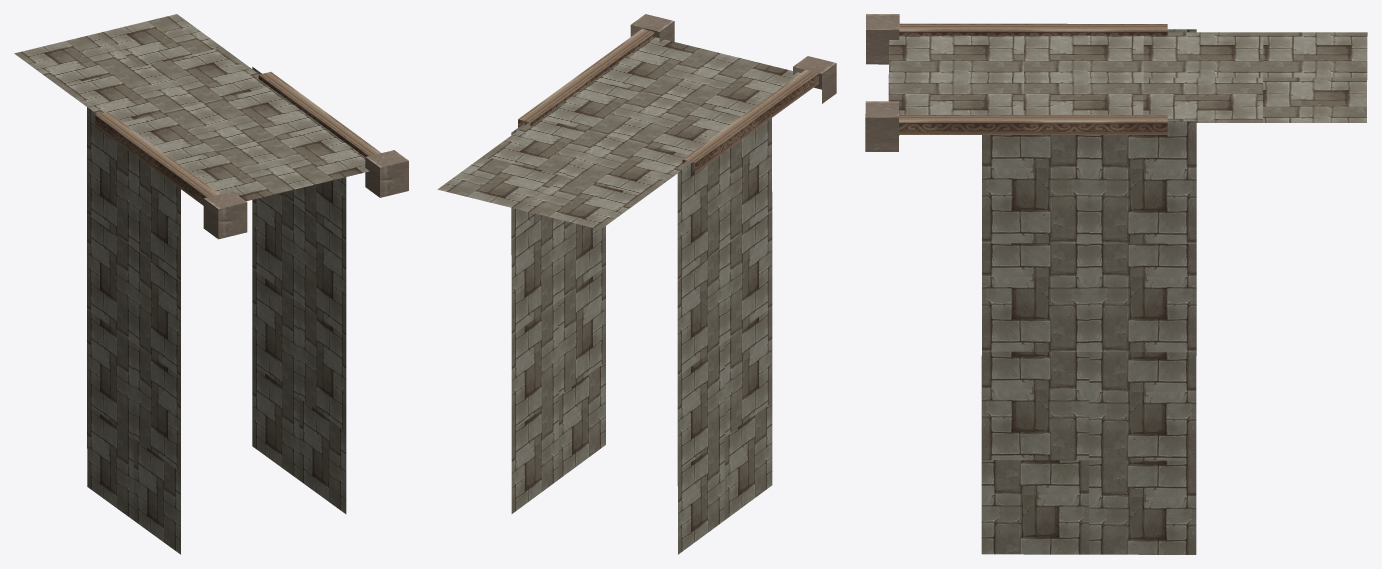
Rendered from cs_lobbynews02_jjc_weiqiang_guodao.FBX.
3 renders of one model, left to right at view 1: azimuth 30°, elevation 25°; view 2: azimuth 150°, elevation 25°; view 3: azimuth 270°, elevation 25°, orthographic. The views are drawn at different scales.
Visible parts, largest first — view 1: cs_lobbynews02_jjc_weiqiang_guodao; view 2: cs_lobbynews02_jjc_weiqiang_guodao; view 3: cs_lobbynews02_jjc_weiqiang_guodao.
Part boxes in pixels (box(x1,y1,x2,y2)): cs_lobbynews02_jjc_weiqiang_guodao: box(14, 14, 408, 554); cs_lobbynews02_jjc_weiqiang_guodao: box(437, 14, 836, 554); cs_lobbynews02_jjc_weiqiang_guodao: box(865, 14, 1367, 554).
Bounding box in the file's own units: 447 × 872 × 894.
